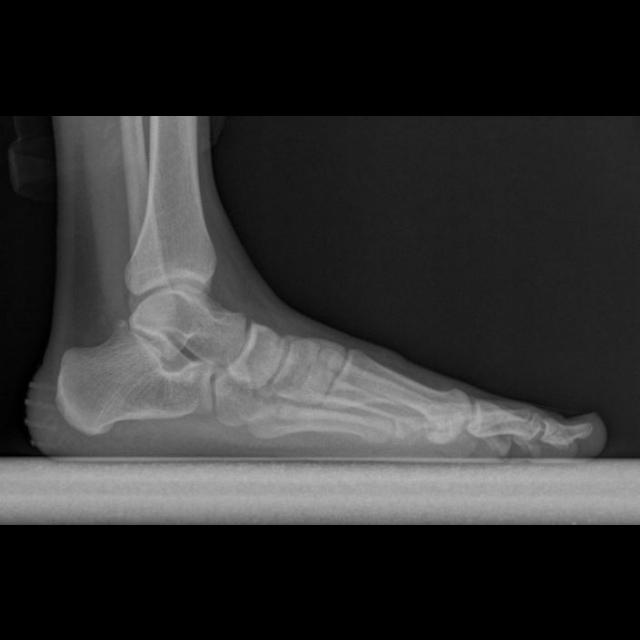a: (56, 321, 213, 435)
b: (226, 321, 285, 390)
c: (320, 347, 471, 432)
